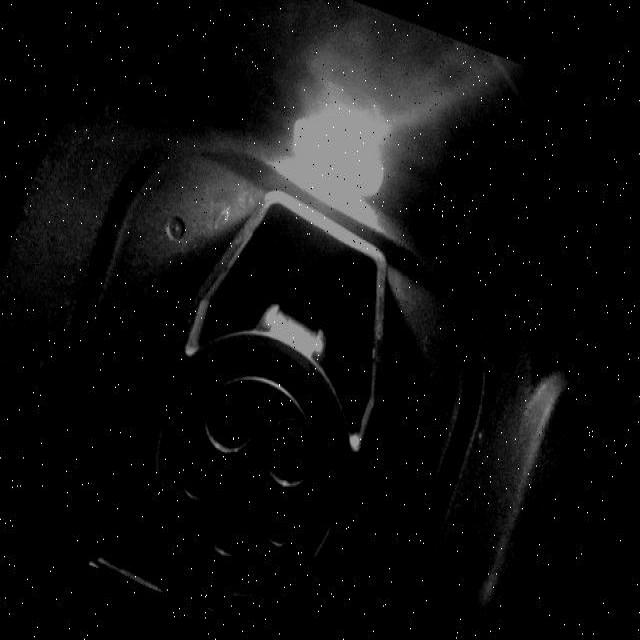Type 1: (160, 338, 357, 587)
